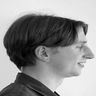ear: (31, 41, 56, 66)
